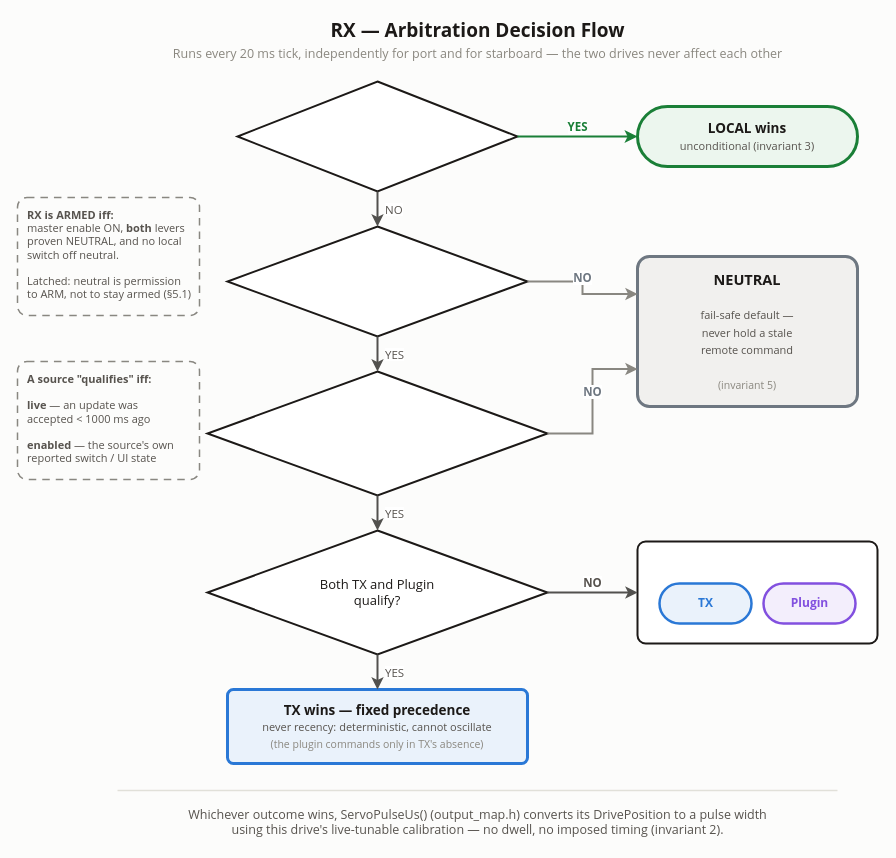
Some shapes in this 896 by 858 pixel diagram are drawn without their labels. Here are the shapes that lost their labels. From the top down, the box of each, then its label:
(236, 80, 518, 192): Local switch off NEUTRAL?
(226, 225, 528, 337): RX ARMED ?
(206, 370, 548, 496): Any remote source live + enabled?
(636, 540, 878, 644): Use the one that qualifies
